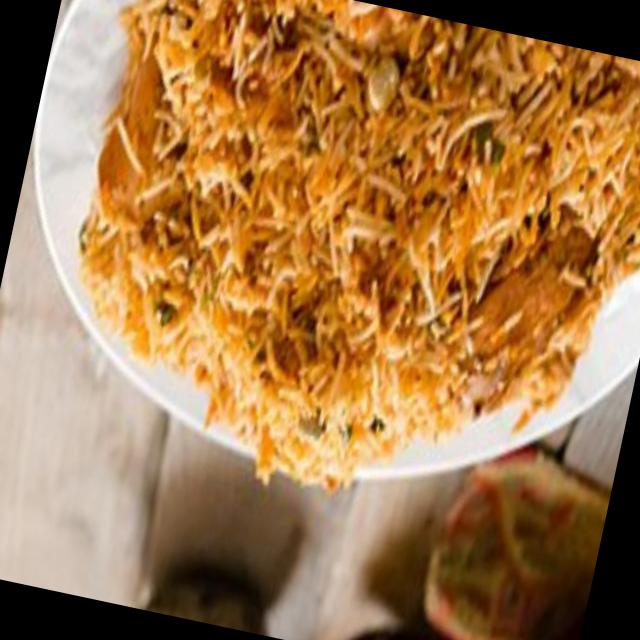Biryani: (43, 0, 640, 522)
